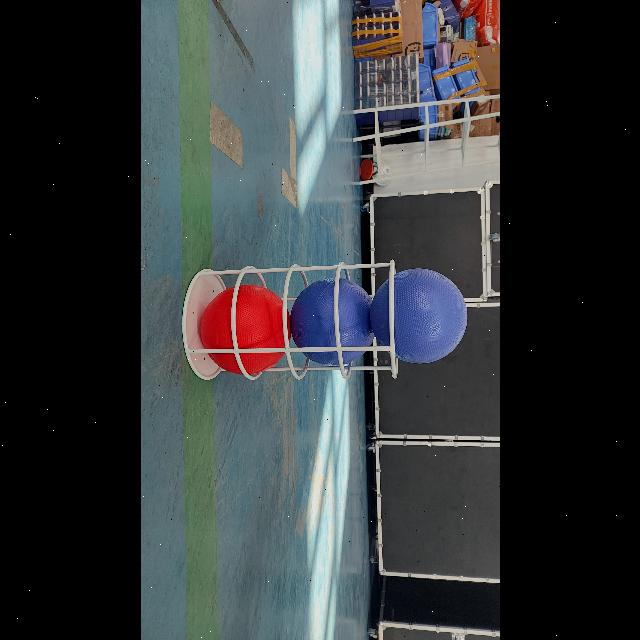B: (367, 268, 467, 364), (288, 277, 376, 365)
R: (199, 284, 291, 376)
S: (177, 253, 399, 387)
